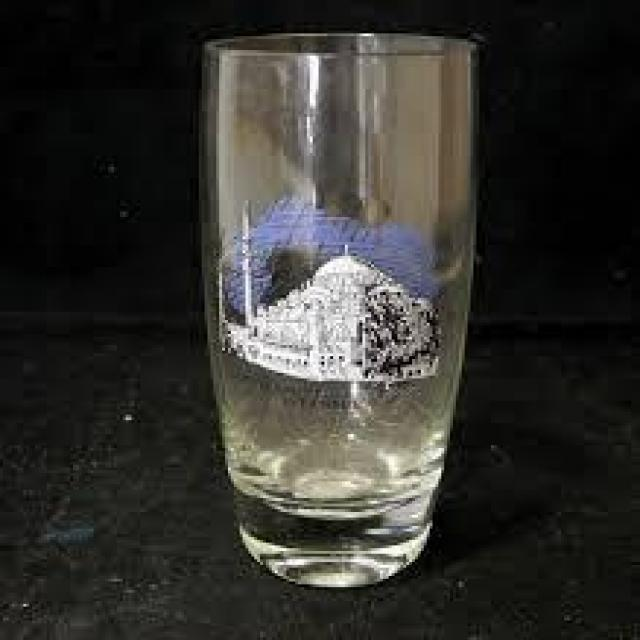glass: (195, 26, 490, 592)
